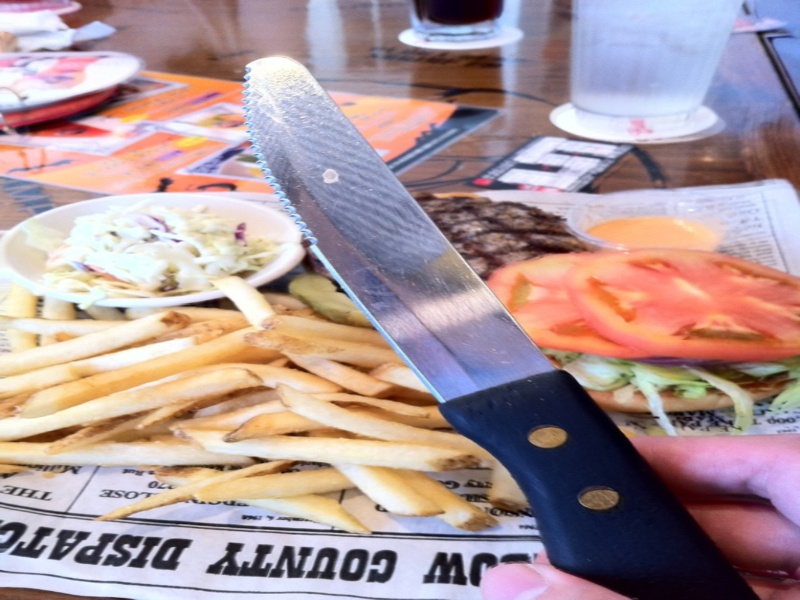knife: (238, 52, 763, 600)
